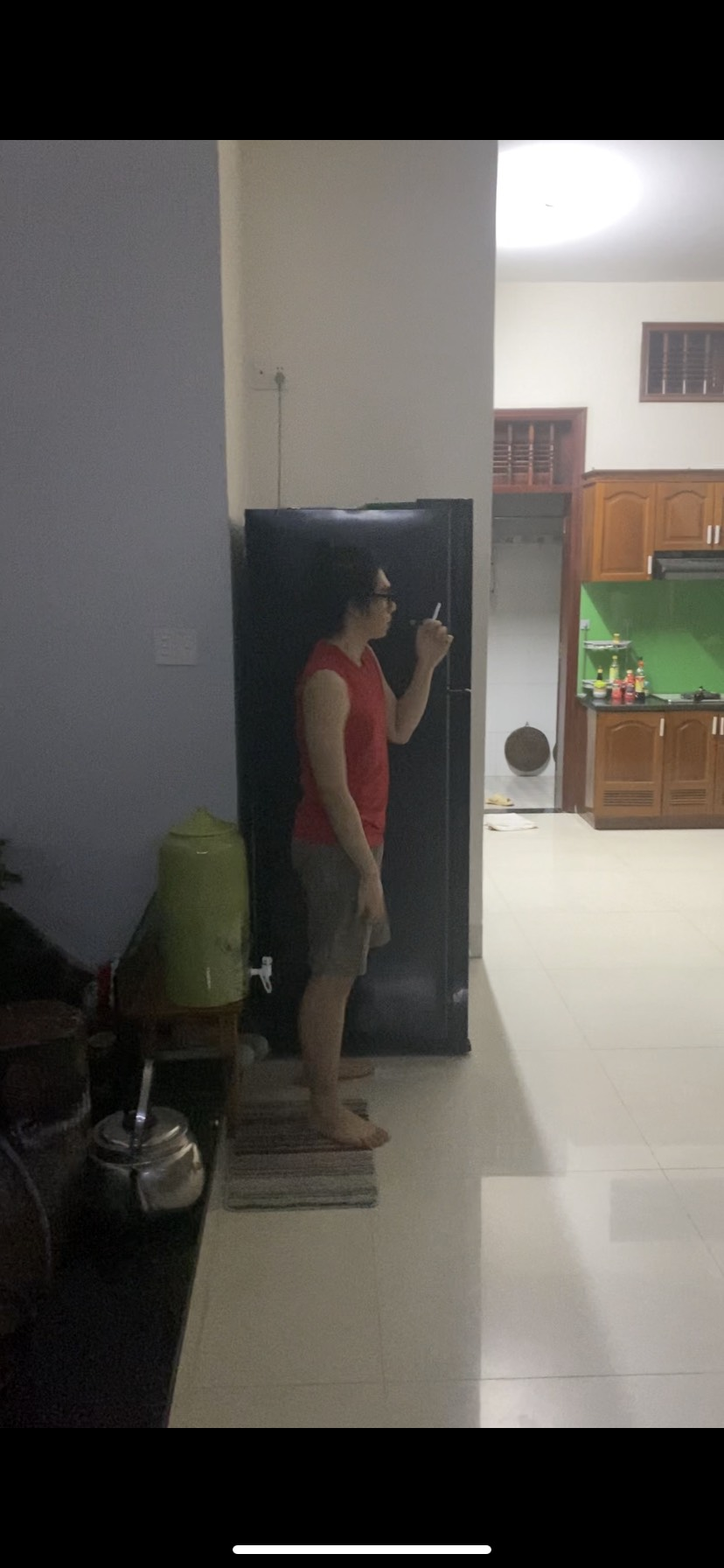cigarette: (429, 598, 445, 621)
person: (286, 535, 461, 1154)
